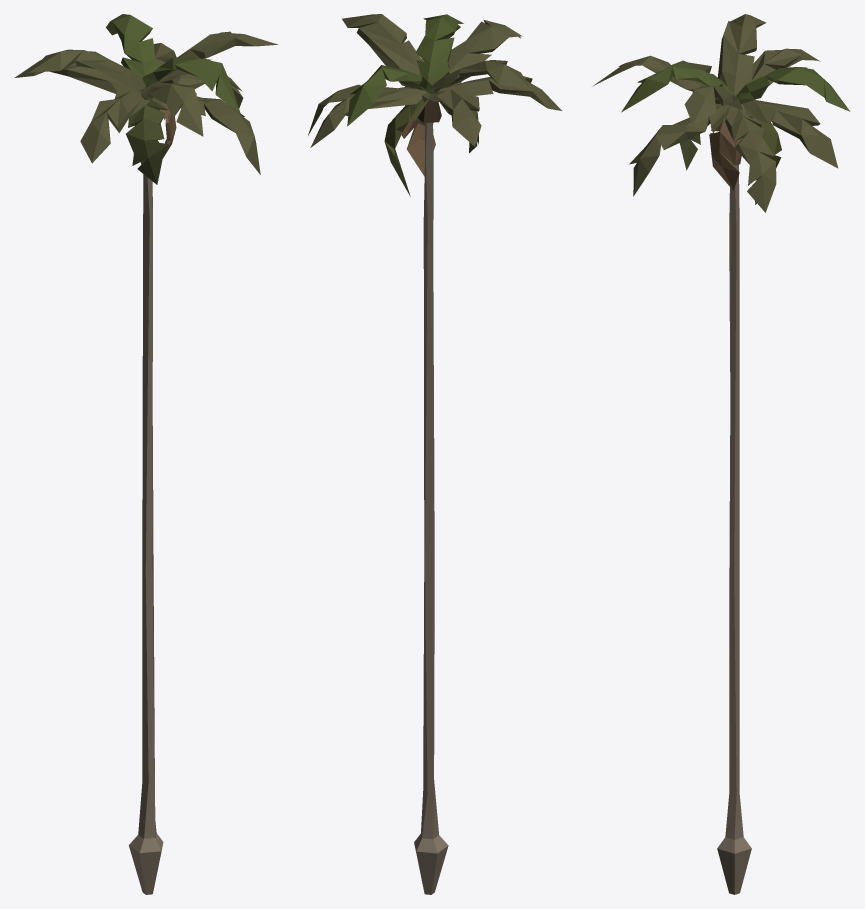
The model's file is SM_Env_PalmTree_Tall_01.glb.
3 views of the same model, side by side, from view 1: azimuth 30°, elevation 25°; view 2: azimuth 150°, elevation 25°; view 3: azimuth 270°, elevation 25° (orthographic). The views are drawn at different scales.
Visible parts, largest first — view 1: SM_Env_PalmTree_Tall_01; view 2: SM_Env_PalmTree_Tall_01; view 3: SM_Env_PalmTree_Tall_01.
Part boxes in pixels (x1,y1,x2,y2): SM_Env_PalmTree_Tall_01: (14, 14, 277, 894); SM_Env_PalmTree_Tall_01: (308, 14, 561, 894); SM_Env_PalmTree_Tall_01: (592, 14, 850, 894).
Size of the model in its own units: 0.0498 by 0.1847 by 0.0517.
